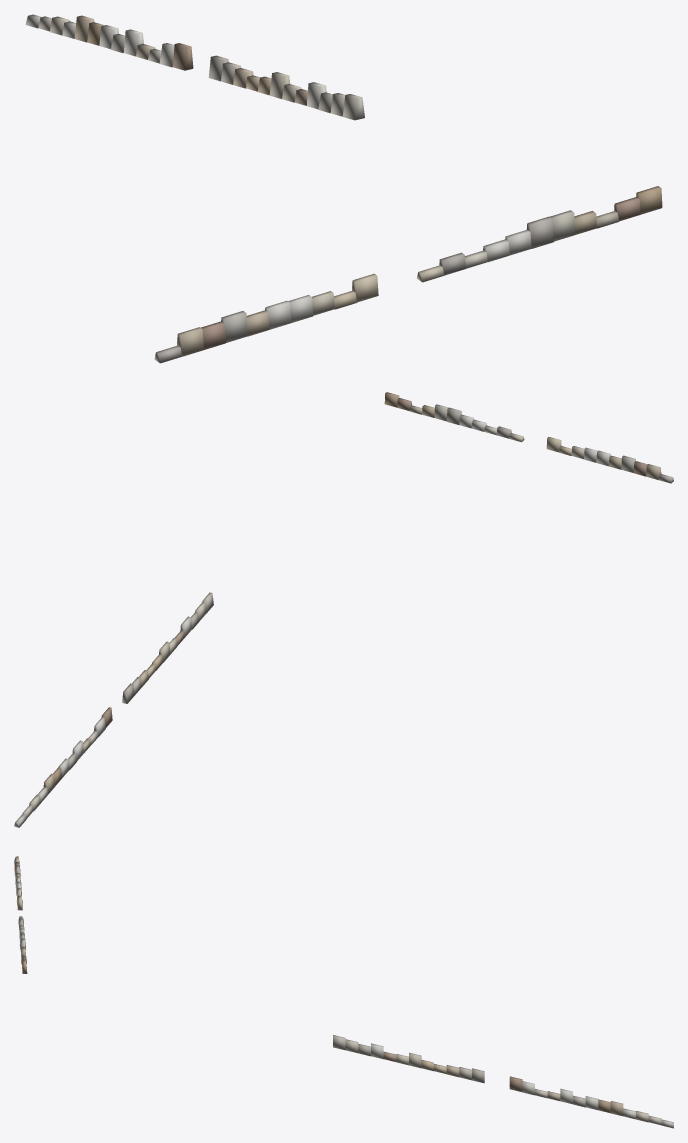
Rendered from farm_4_28_collision.glb.
3 views of the same model, one above another, from view 1: azimuth 30°, elevation 25°; view 2: azimuth 150°, elevation 25°; view 3: azimuth 270°, elevation 25° (orthographic). The views are drawn at different scales.
Visible parts, largest first — view 1: geometry_0; view 2: geometry_0; view 3: geometry_0.
Boxes of the visible parts, left/top/right/bottom form: geometry_0: left=25, top=14, right=662, bottom=363; geometry_0: left=14, top=392, right=673, bottom=827; geometry_0: left=14, top=856, right=673, bottom=1128.
Bounding box in the file's own units: 37.91 × 21.42 × 80.95.
